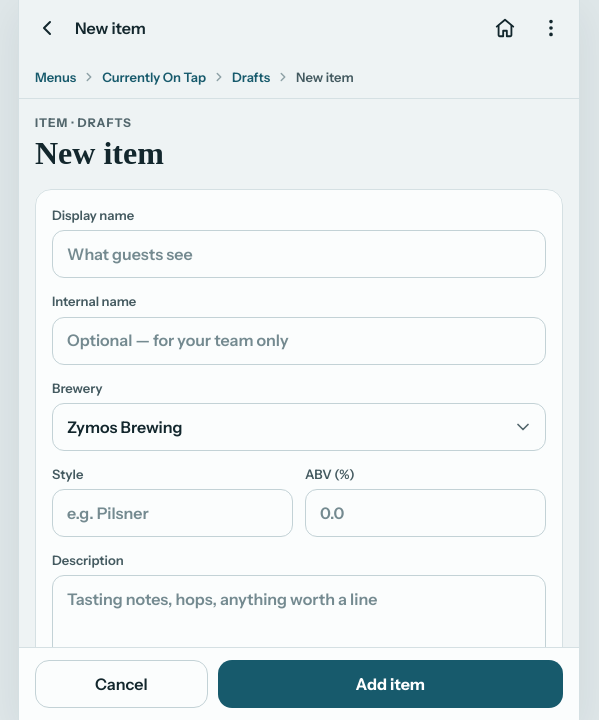
ItemEditorPage: new item › creates the item with its prices, then returns to the section
Type "  Dark Lager " into the field labelled "Display name" at (299, 254), box x1=52 y1=230 x2=546 y2=278
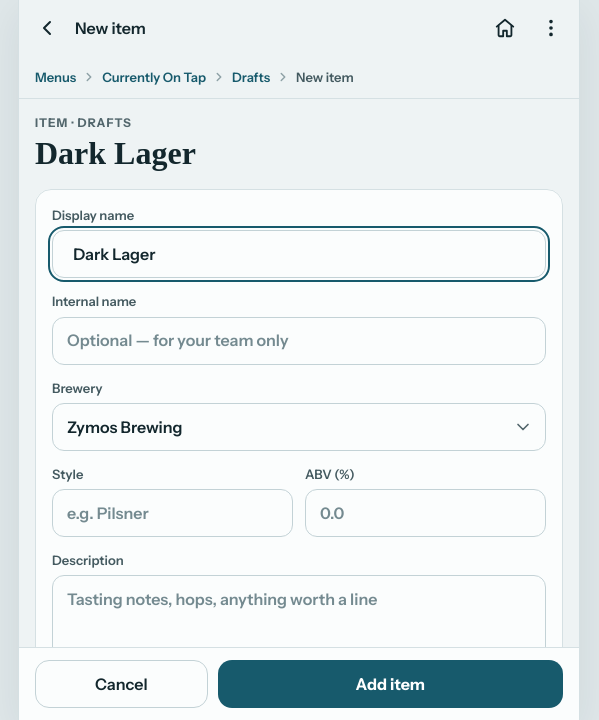
Select "No brewery" in the dropdown labelled "Brewery" at (299, 427), box x1=52 y1=403 x2=546 y2=451
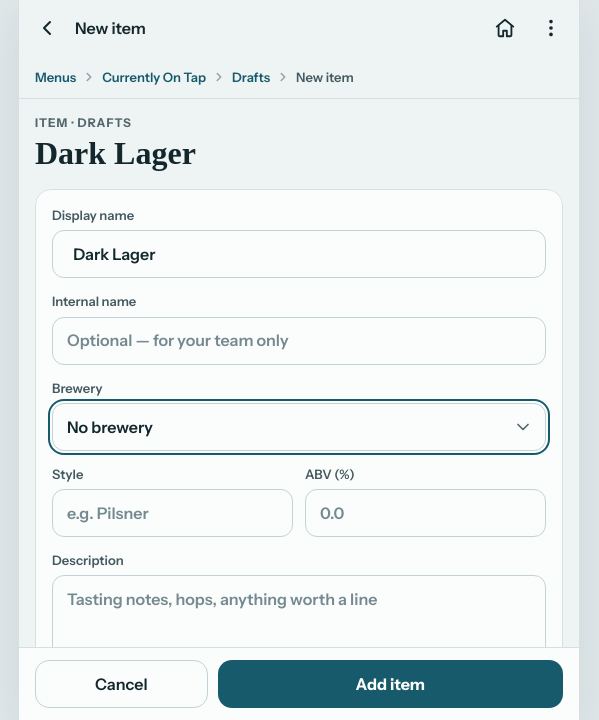
Type "Schwarzbier" into the field labelled "Style" at (172, 513), box x1=52 y1=489 x2=293 y2=537
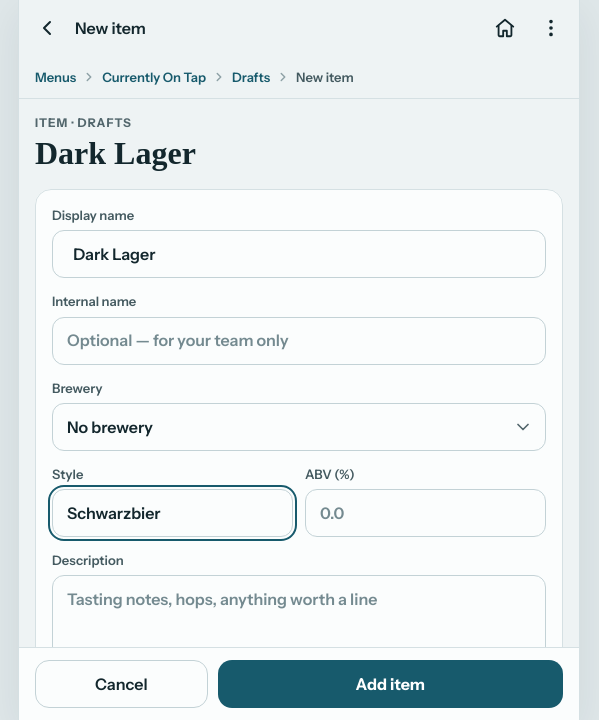
Note: Commas and a leading $ are accepted as typed on a phone keypad
Type "5,1" into the field labelled "ABV (%)" at (426, 513), box x1=305 y1=489 x2=546 y2=537
(page scrolled)
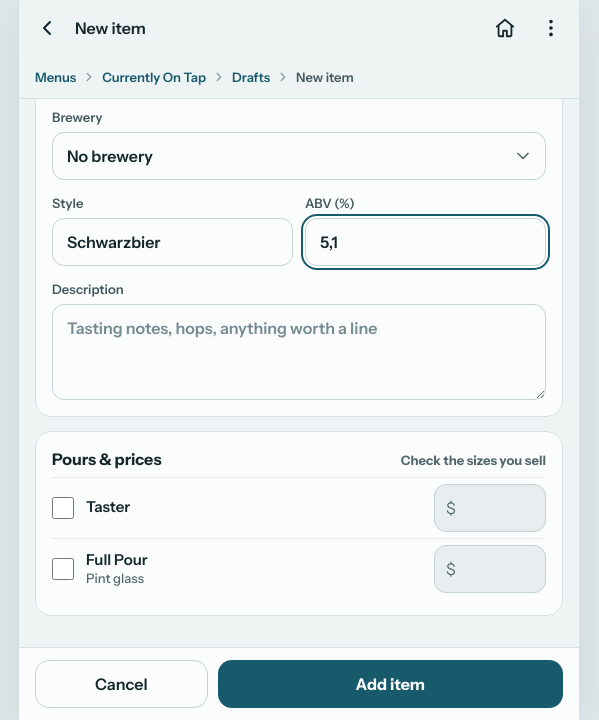
Click the checkbox labelled "Full Pour Pint glass" at (63, 568), box x1=52 y1=558 x2=74 y2=580
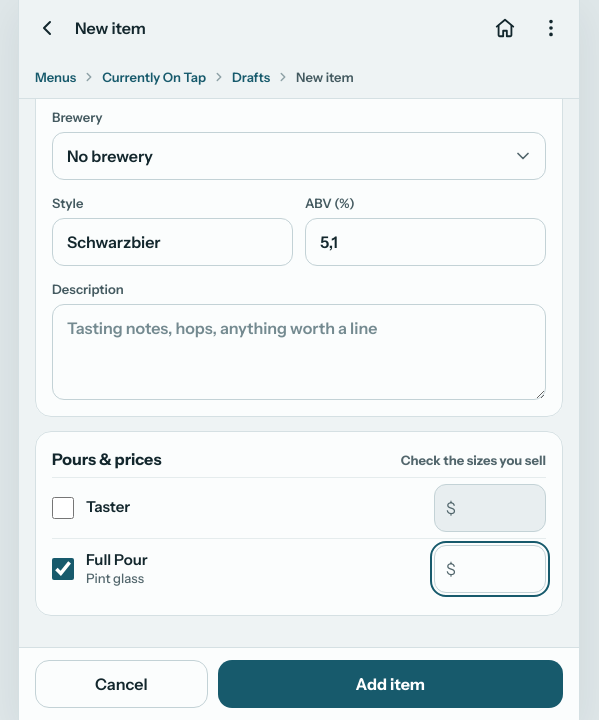
Type "$7.50" into the field named "Price for Full Pour (Pint glass)" at (490, 568), box x1=434 y1=544 x2=546 y2=592
Click the button "Add item" at (390, 684), box x1=218 y1=660 x2=563 y2=708
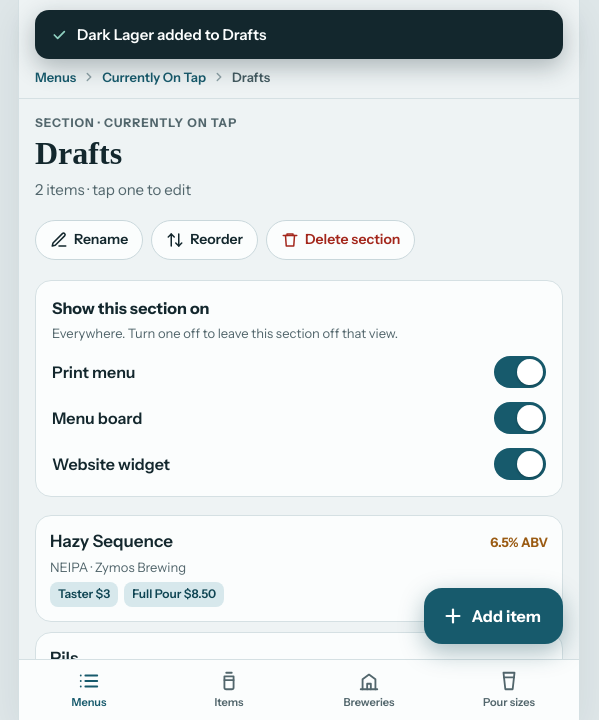
Result: the text "Dark Lager added to Drafts" is shown at x1=35 y1=10 x2=563 y2=59
